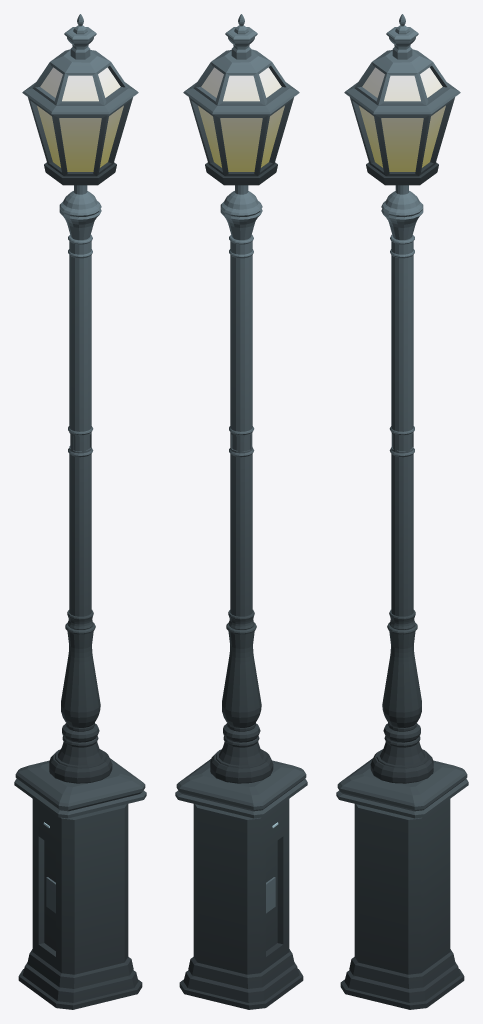
The model's file is Lamp_Straight.fbx.
The picture shows the model from 3 angles, left to right: view 1: azimuth 30°, elevation 25°; view 2: azimuth 150°, elevation 25°; view 3: azimuth 330°, elevation 25°; orthographic projection.
Visible parts, largest first — view 1: Cube.034; view 2: Cube.034; view 3: Cube.034.
Part boxes in pixels (box(x1,y1,x2,y2)): Cube.034: box(14, 14, 146, 1009); Cube.034: box(175, 14, 307, 1009); Cube.034: box(336, 14, 468, 1009).
Size of the model in its own units: 71.11 by 746 by 81.3.
